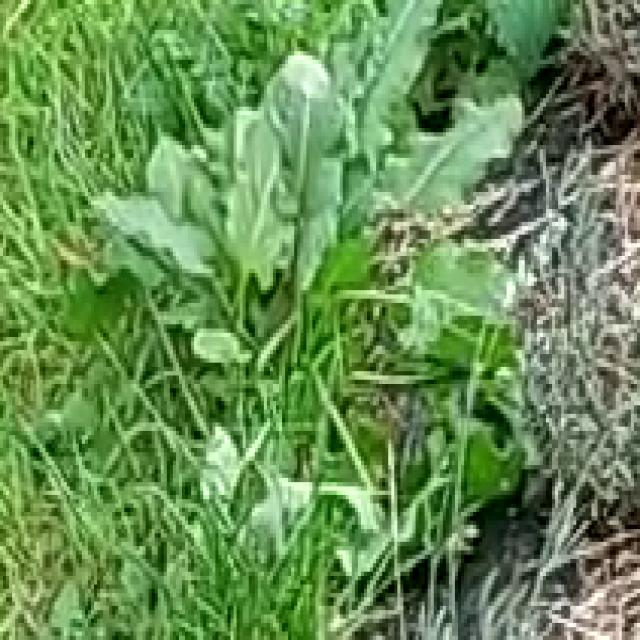organic waste: (94, 0, 509, 503)
